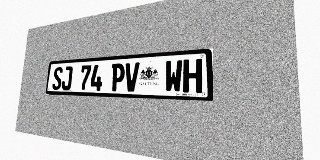4: (90, 64, 103, 91)
7: (79, 65, 92, 91)
H: (183, 59, 202, 93)
J: (61, 66, 73, 90)
P: (110, 63, 125, 91)
S: (52, 67, 63, 90)
V: (124, 62, 140, 92)
W: (164, 60, 183, 93)
